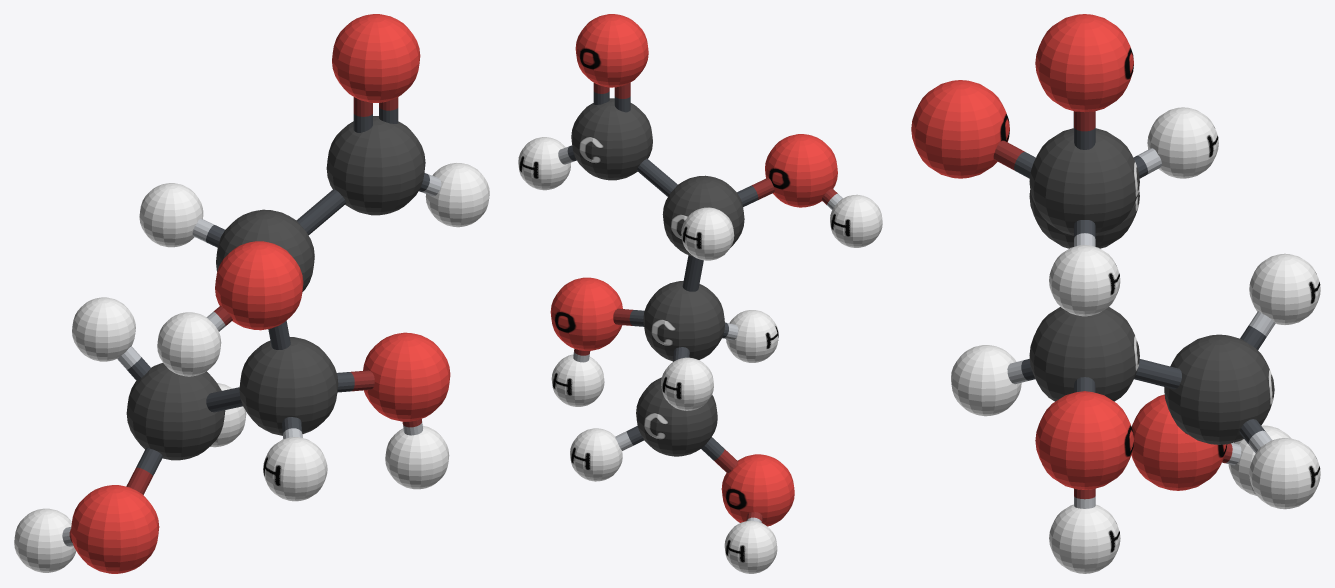
Rendered from Tetrosa.fbx.
3 renders of one model, left to right at view 1: azimuth 30°, elevation 25°; view 2: azimuth 150°, elevation 25°; view 3: azimuth 270°, elevation 25°, orthographic. The views are drawn at different scales.
Visible parts, largest first — view 1: Shape_Sphere.030; view 2: Shape_Sphere.030; view 3: Shape_Sphere.030.
Part boxes in pixels (x1=…): Shape_Sphere.030: x1=14, y1=14, x2=489, y2=573; Shape_Sphere.030: x1=518, y1=14, x2=882, y2=573; Shape_Sphere.030: x1=911, y1=14, x2=1320, y2=573.
Size of the model in its own units: 11.4 by 15.52 by 9.45.
Materials: 6 (3 with a texture image).
